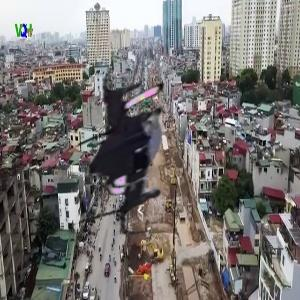drone: (35, 58, 219, 242)
